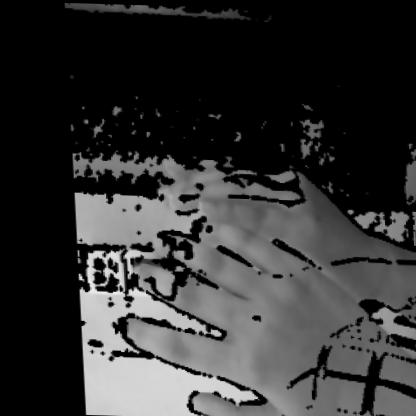dua: (98, 142, 415, 415)
